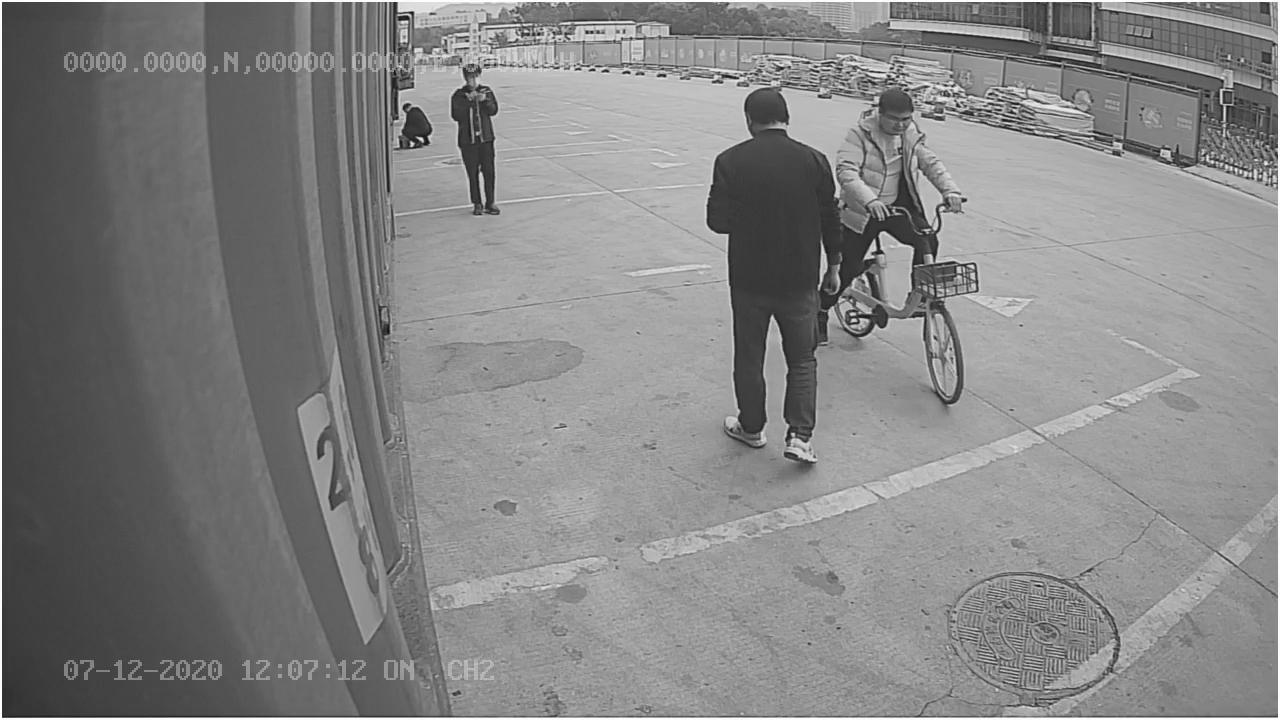person: (700, 82, 844, 467)
